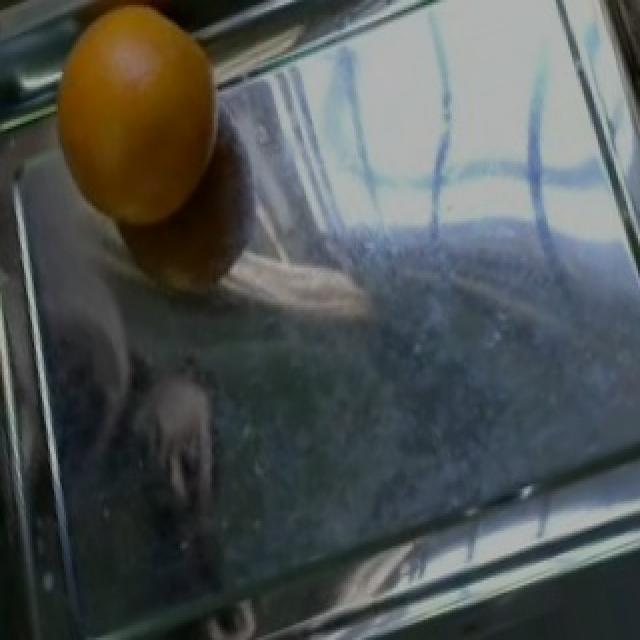Fruit: (34, 0, 240, 246)
